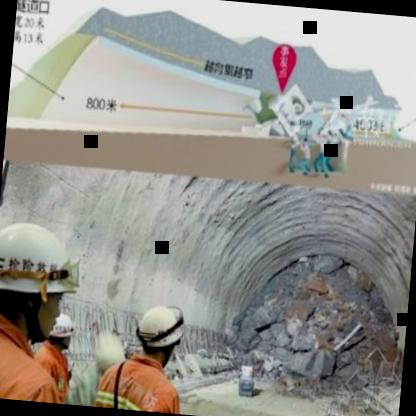helmet: (0, 210, 88, 340), (134, 302, 190, 362), (47, 314, 79, 356)
